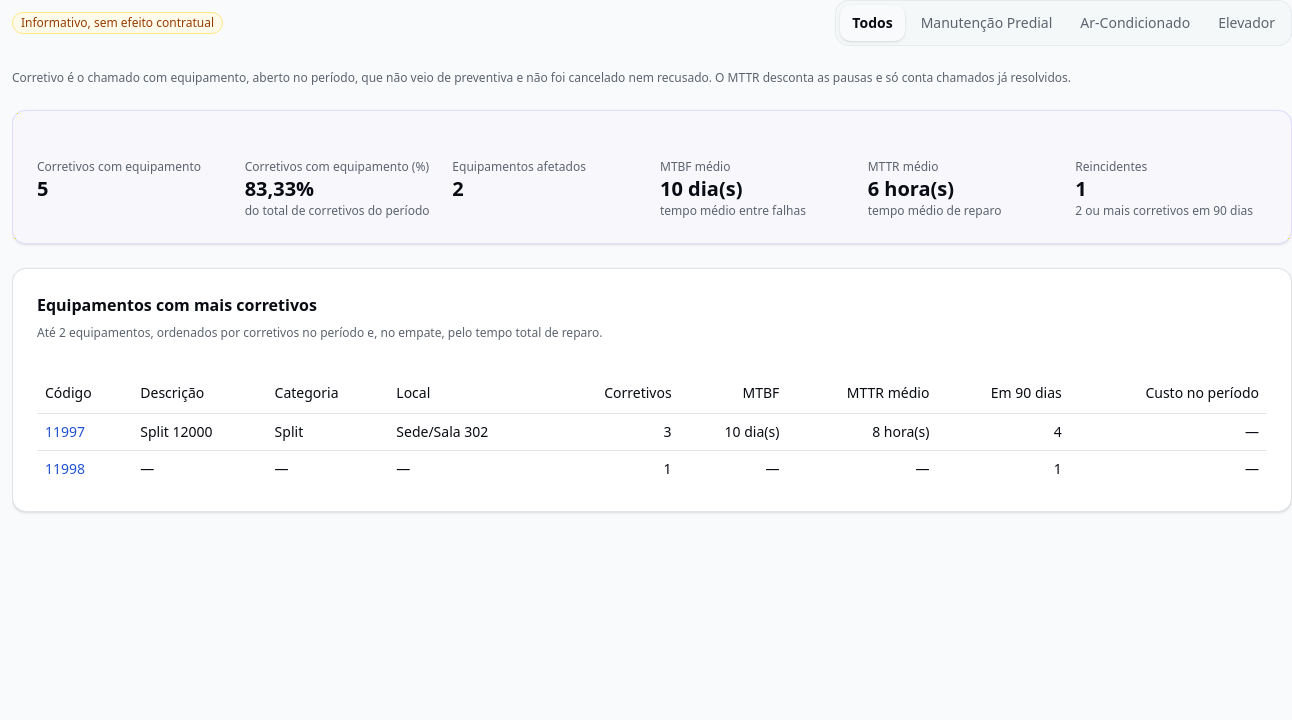
Test: ImrAtivos › tipo sem corretivo mostra o texto de vazio no lugar dos números e da tabela (AC-19)
Click the button "Elevador" at (1247, 23), box [1206,5,1287,41]
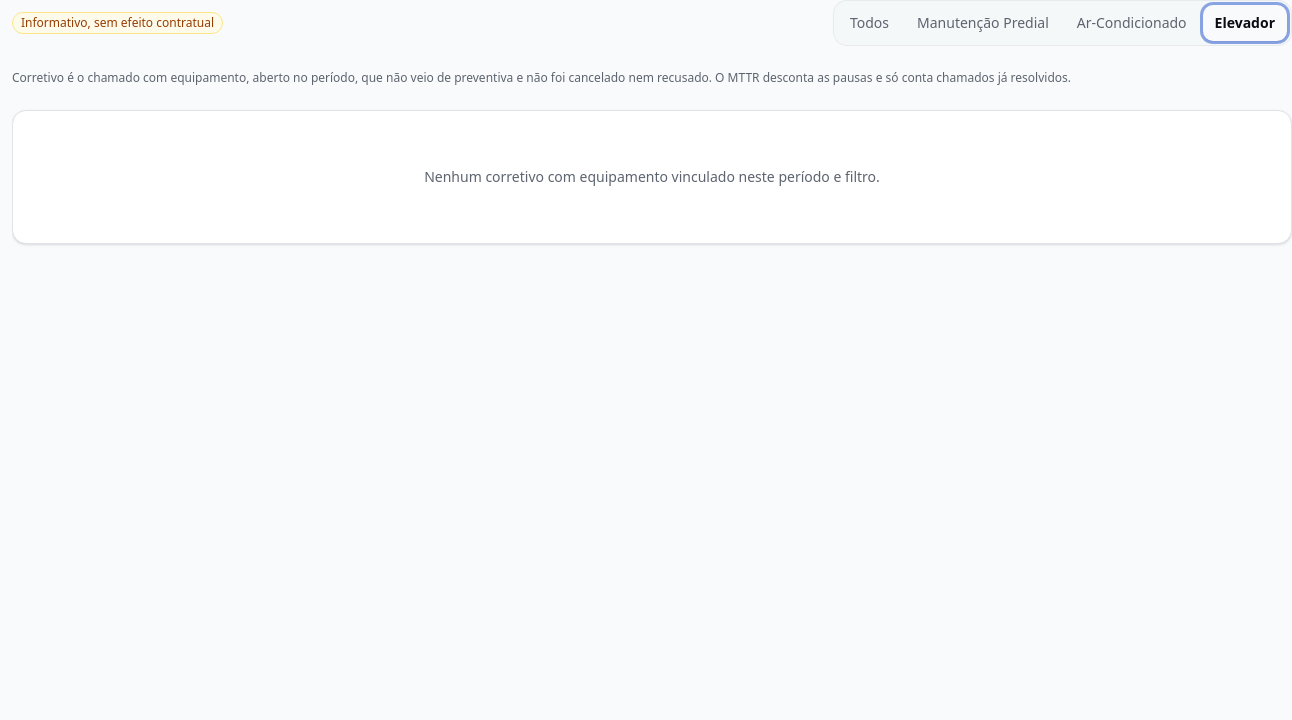
Check: the text "Nenhum corretivo com equipamento" is shown, box [424,167,880,186]
Check: the table is gone
Check: the text "MTBF médio" is gone
